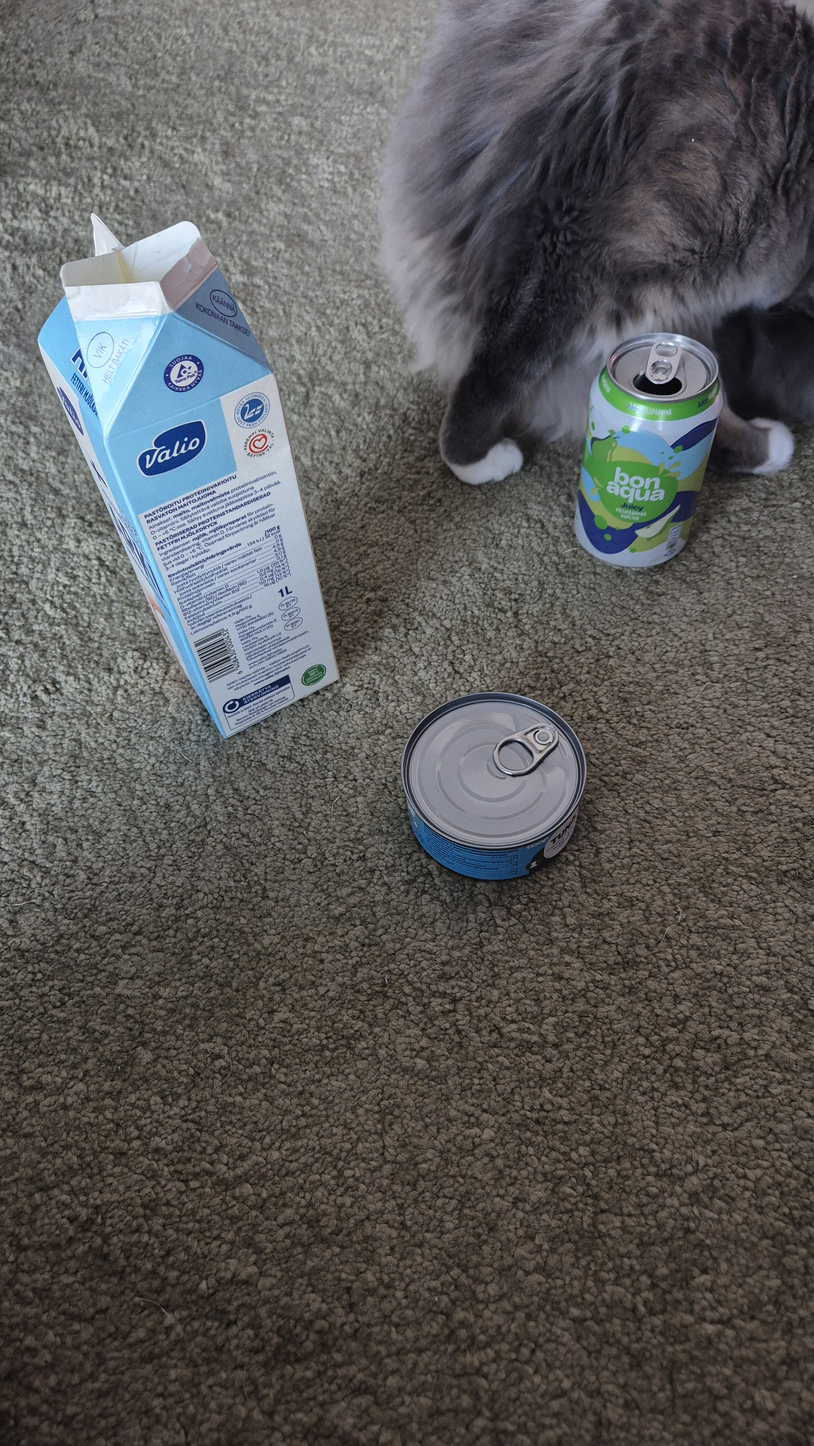Dryckeskartong: (37, 213, 339, 738)
Konservburk: (401, 692, 587, 880)
Pantburk: (574, 333, 724, 567)
